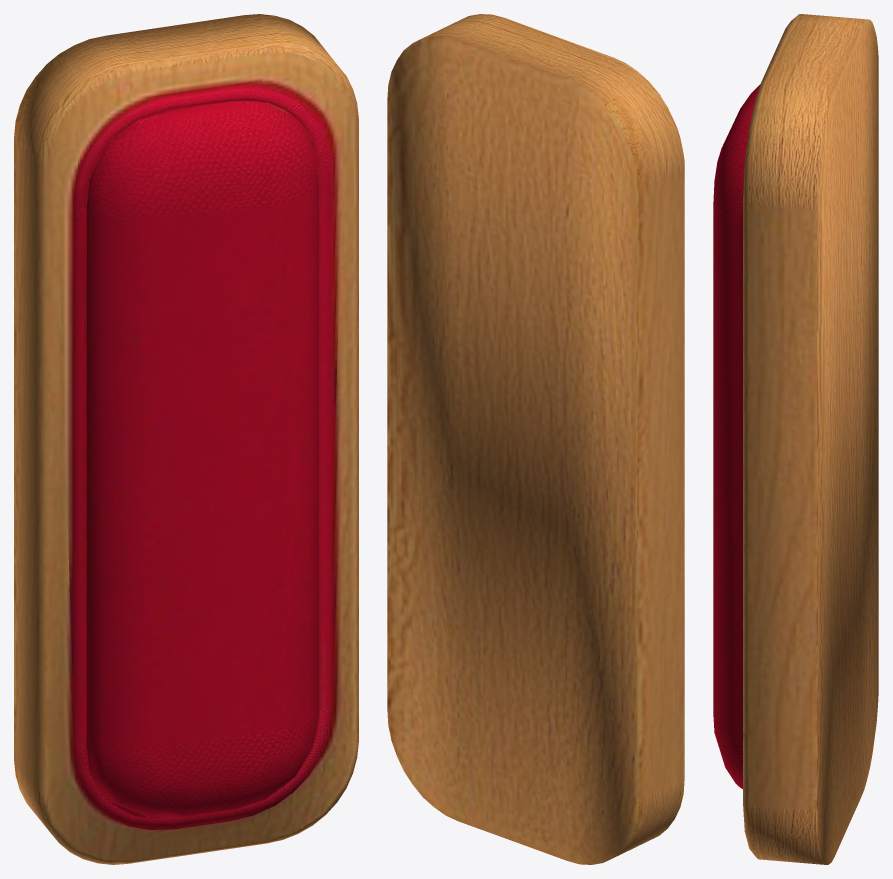
Rendered from side-cushion.glb.
3 renders of one model, left to right at view 1: azimuth 30°, elevation 25°; view 2: azimuth 150°, elevation 25°; view 3: azimuth 270°, elevation 25°, orthographic. The views are drawn at different scales.
Visible parts, largest first — view 1: tripo_node_d943fada-58db-4d43-ba8a-66956573e008; view 2: tripo_node_d943fada-58db-4d43-ba8a-66956573e008; view 3: tripo_node_d943fada-58db-4d43-ba8a-66956573e008.
Part boxes in pixels (x1,y1,x2,y2): tripo_node_d943fada-58db-4d43-ba8a-66956573e008: (14, 14, 358, 864); tripo_node_d943fada-58db-4d43-ba8a-66956573e008: (387, 14, 684, 864); tripo_node_d943fada-58db-4d43-ba8a-66956573e008: (713, 14, 878, 864).
Bounding box in the file's own units: 0.394 × 0.9995 × 0.1948.
Materials: 1 (1 with a texture image).
